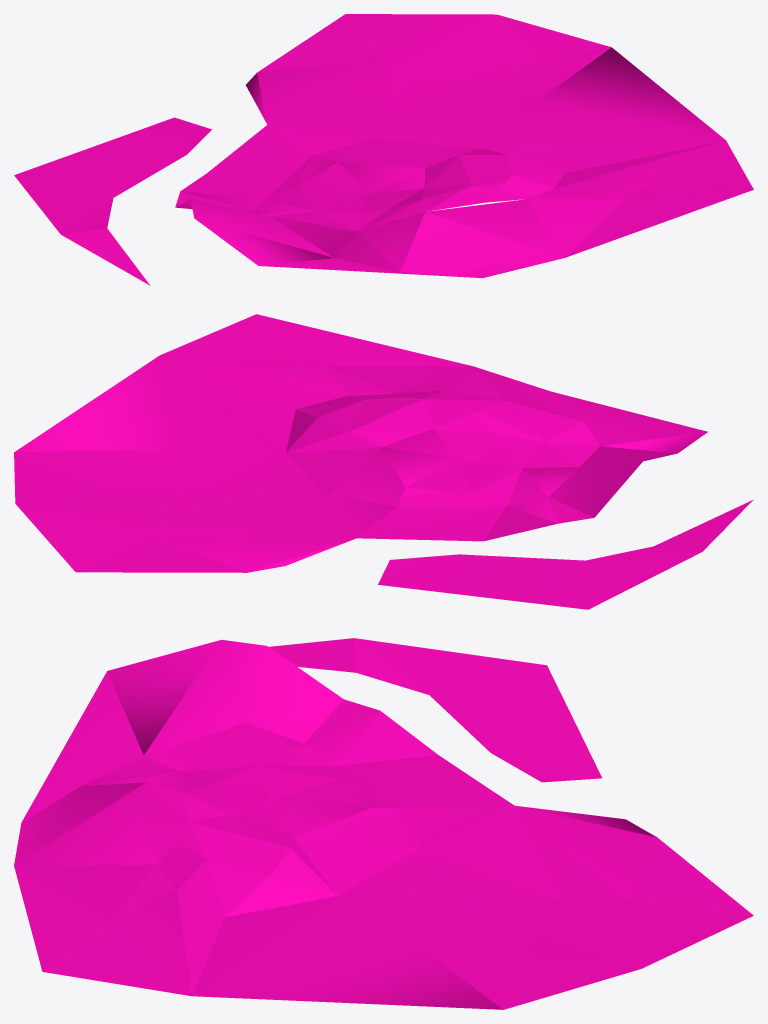
File: Shem_PZ.fbx
3 renders of one model, top to bottom at view 1: azimuth 30°, elevation 25°; view 2: azimuth 150°, elevation 25°; view 3: azimuth 270°, elevation 25°, orthographic. The views are drawn at different scales.
Parts seen in each view (by area): view 1: dimian2.005; view 2: dimian2.005; view 3: dimian2.005.
Boxes of the visible parts, bbox=[...] form: dimian2.005: bbox=[14, 14, 753, 285]; dimian2.005: bbox=[14, 314, 752, 609]; dimian2.005: bbox=[14, 638, 753, 1009].
Bounding box in the file's own units: 82406 × 6711 × 70942.
